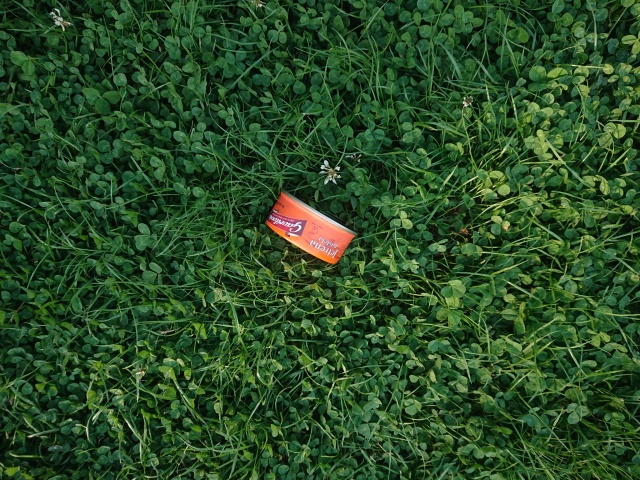Gavrilovic Pork Liver Pate 100g: (262, 185, 359, 267)
